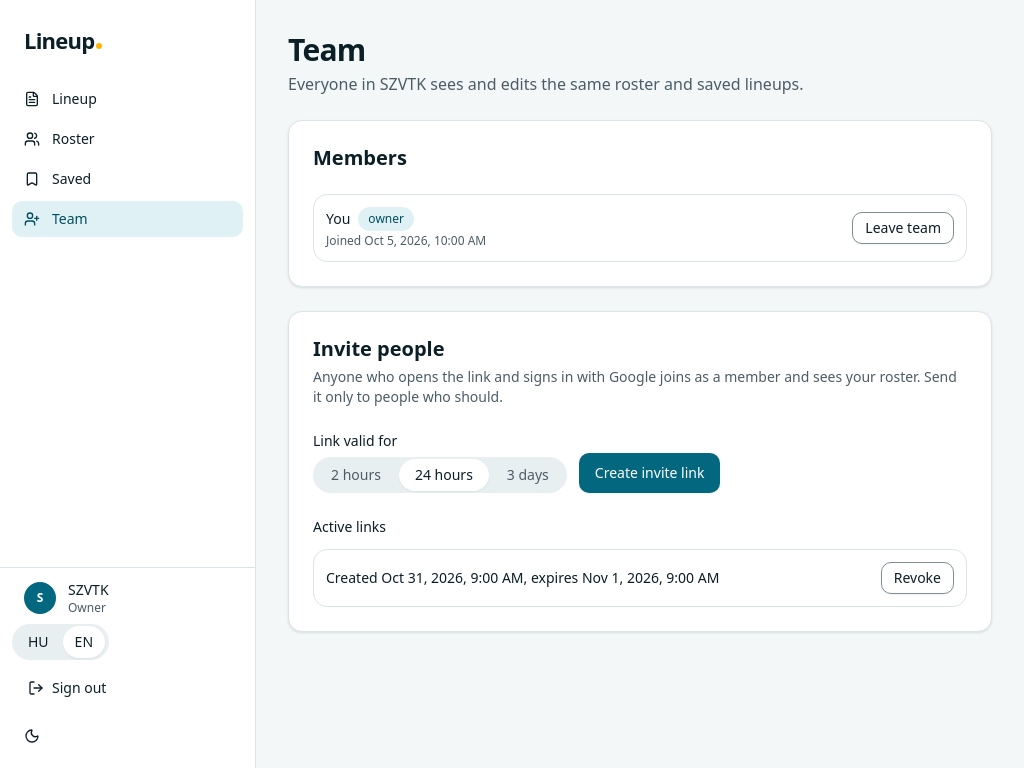
active links › revokes one after confirming, and stops showing a link that was just revoked
Click the button "Create invite link" at {"x": 650, "y": 473}, box [579,453,720,493]
(page scrolled)
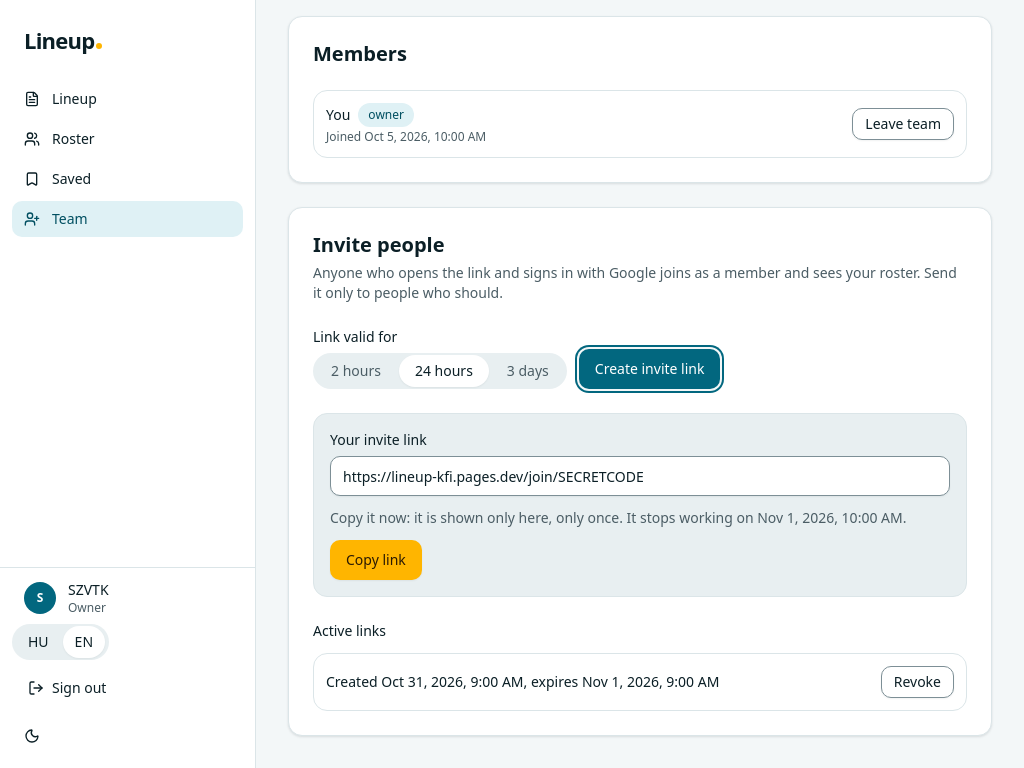
Expected: the field labelled "Your invite link" is shown, [330,456,950,496]
Click the button "Revoke" at {"x": 917, "y": 682}, box [881,666,954,698]
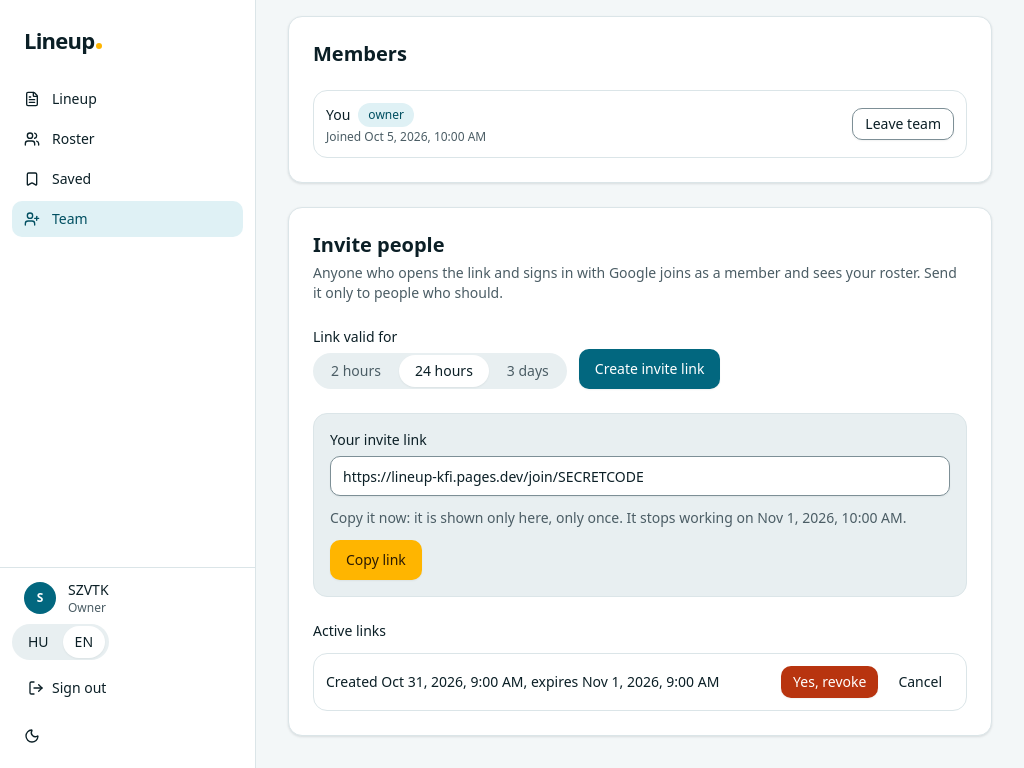
Click the button "Yes, revoke" at {"x": 830, "y": 682}, box [781,666,878,698]
(page scrolled)
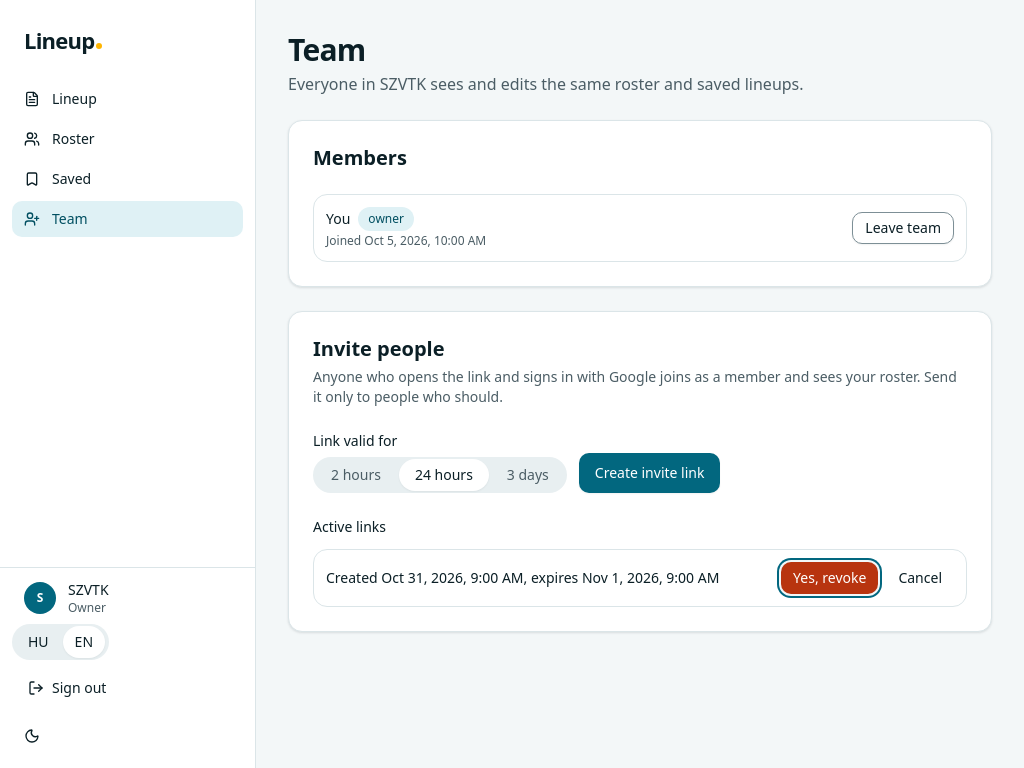
Expected: the label labelled "Your invite link" is gone
